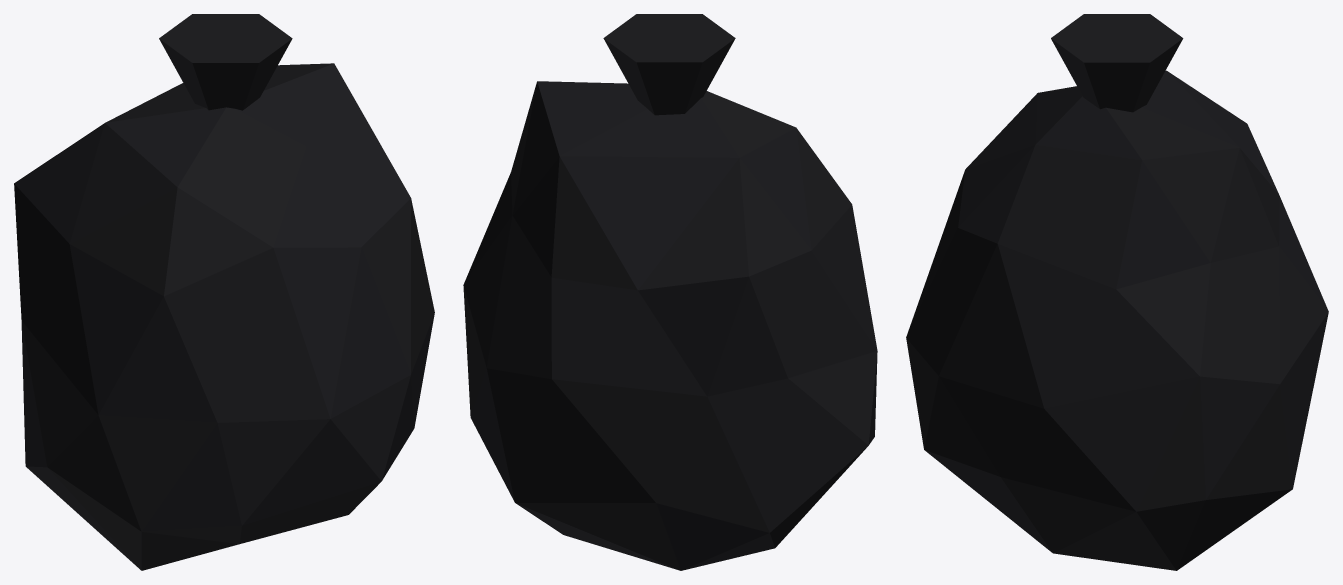
File: Trash_GarbageBag.fbx
3 renders of one model, left to right at view 1: azimuth 30°, elevation 25°; view 2: azimuth 150°, elevation 25°; view 3: azimuth 270°, elevation 25°, orthographic.
Parts seen in each view (by area): view 1: Trash_GarbageBag; view 2: Trash_GarbageBag; view 3: Trash_GarbageBag.
Boxes of the visible parts, bbox=[...] form: Trash_GarbageBag: bbox=[14, 14, 434, 570]; Trash_GarbageBag: bbox=[463, 14, 877, 570]; Trash_GarbageBag: bbox=[906, 14, 1328, 570].
Bounding box in the file's own units: 0.5699 × 0.7438 × 0.5734.
